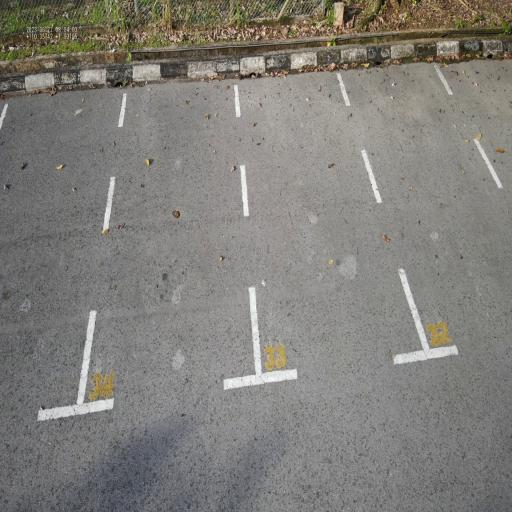Empty: (228, 64, 441, 390), (72, 68, 266, 422)
